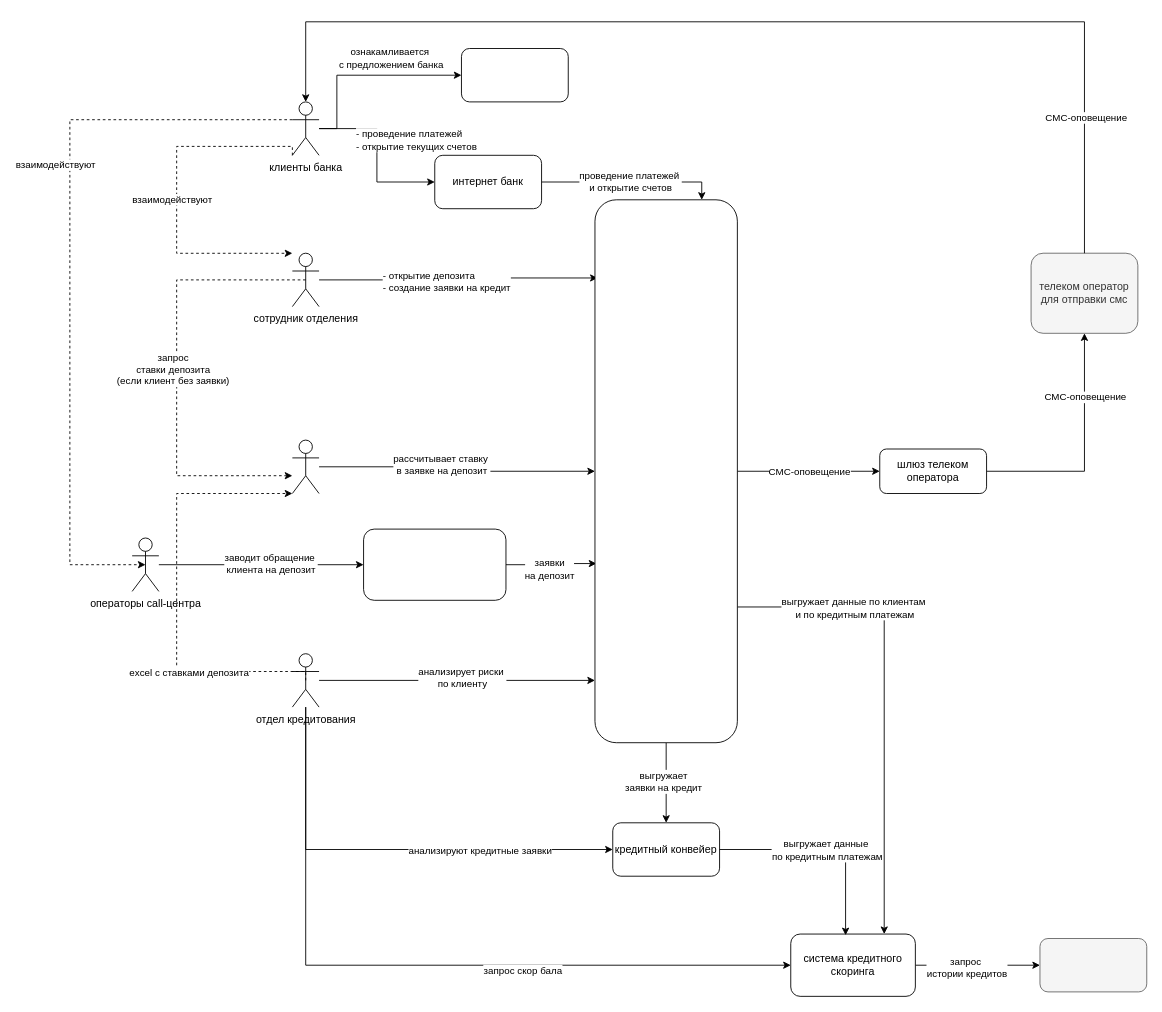
This 1162x1012 diagram has some shape labels left out. Each missing label, with the centre of its shape:
АБС: the point at 665,471
БКИ: the point at 1093,965
бэк-офис: the point at 305,466
сайт: the point at 514,75
система колл центра: the point at 434,564
